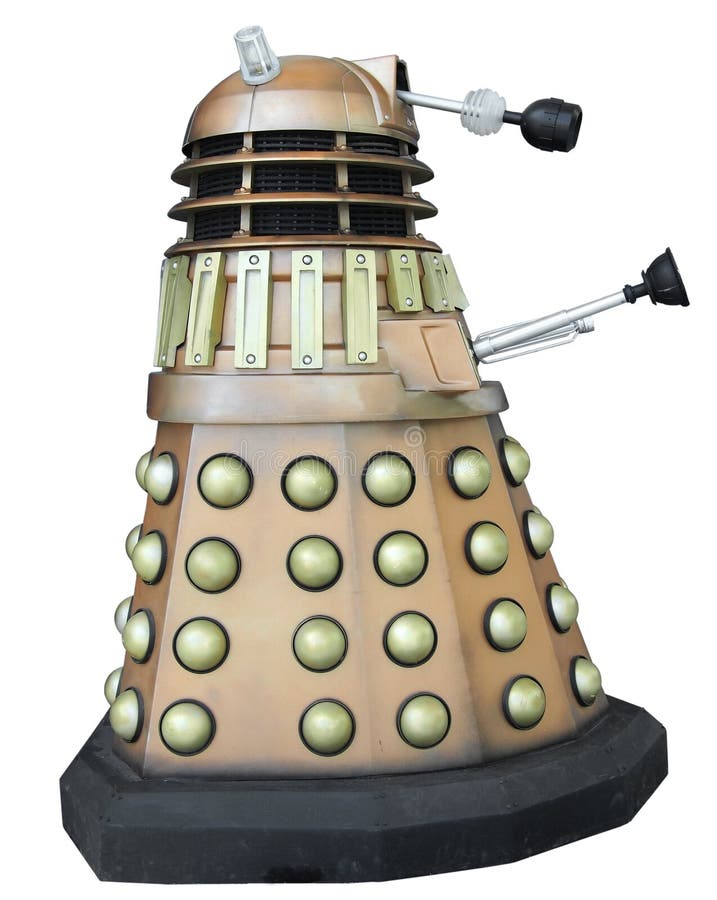dalek: (77, 40, 659, 842)
